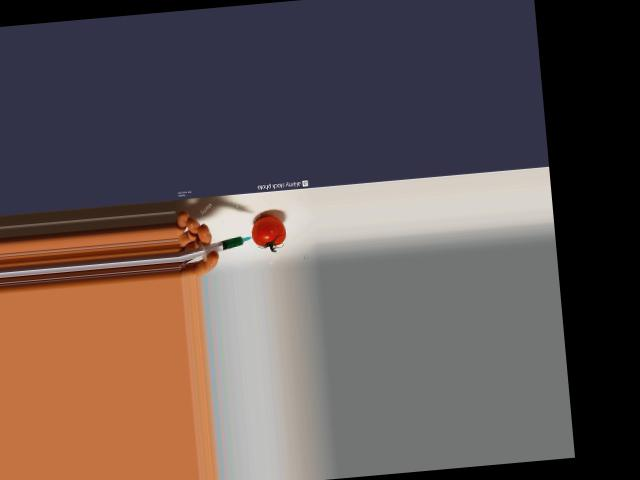tomato: (250, 214, 285, 247)
